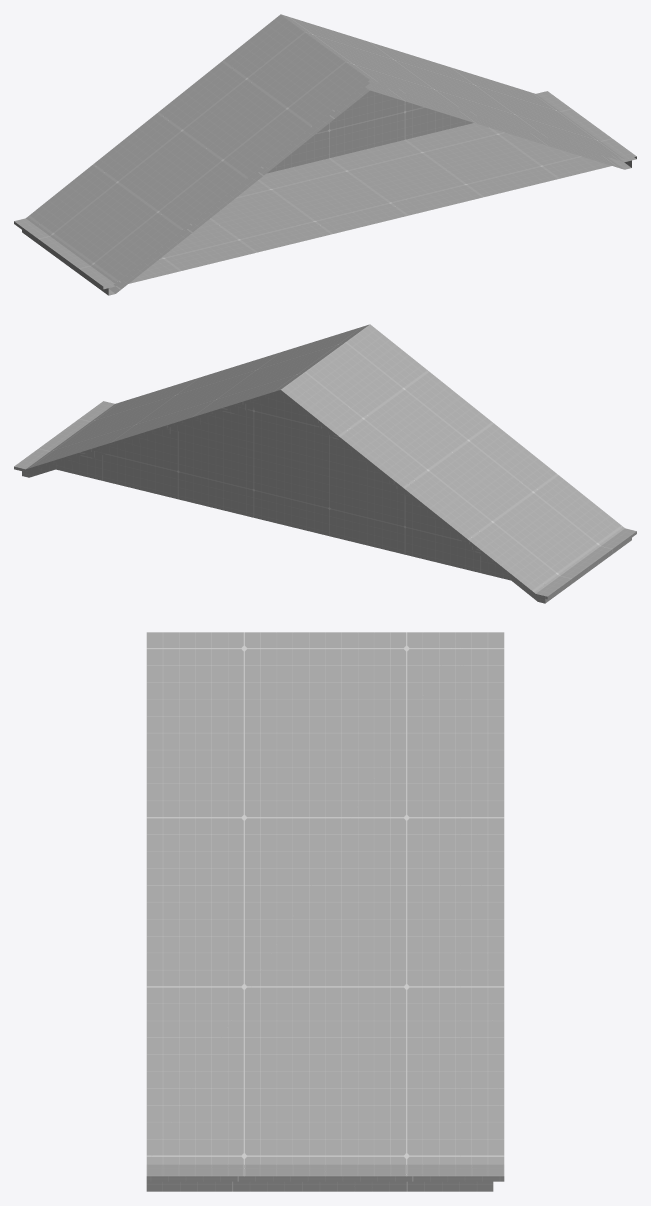
The model's file is Roof.004.fbx.
3 renders of one model, top to bottom at view 1: azimuth 30°, elevation 25°; view 2: azimuth 150°, elevation 25°; view 3: azimuth 270°, elevation 25°, orthographic. The views are drawn at different scales.
Parts seen in each view (by area): view 1: Roof.004; view 2: Roof.004; view 3: Roof.004.
Boxes of the visible parts, x1,y1,x2,y2 form: Roof.004: [14, 14, 636, 295]; Roof.004: [14, 324, 636, 603]; Roof.004: [146, 632, 504, 1191].
Bounding box in the file's own units: 706 × 192 × 205.
